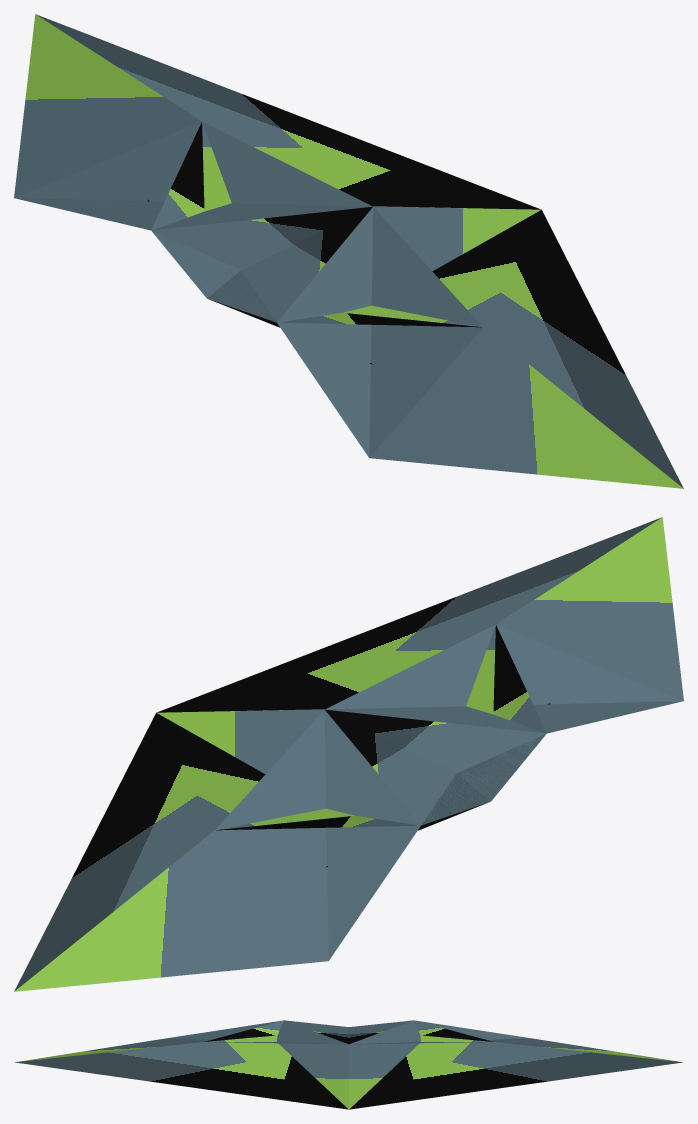
Rendered from enemyspaceship.glb.
The picture shows the model from 3 angles, top to bottom: view 1: azimuth 30°, elevation 25°; view 2: azimuth 150°, elevation 25°; view 3: azimuth 270°, elevation 25°; orthographic projection. The views are drawn at different scales.
Parts seen in each view (by area): view 1: Cube; view 2: Cube; view 3: Cube.
Boxes of the visible parts, <box> form: Cube: <box>14,14,683,488</box>; Cube: <box>14,517,683,991</box>; Cube: <box>15,1020,682,1109</box>.
Size of the model in its own units: 1.34 by 0.2828 by 4.31.
Materials: 1 (1 with a texture image).
